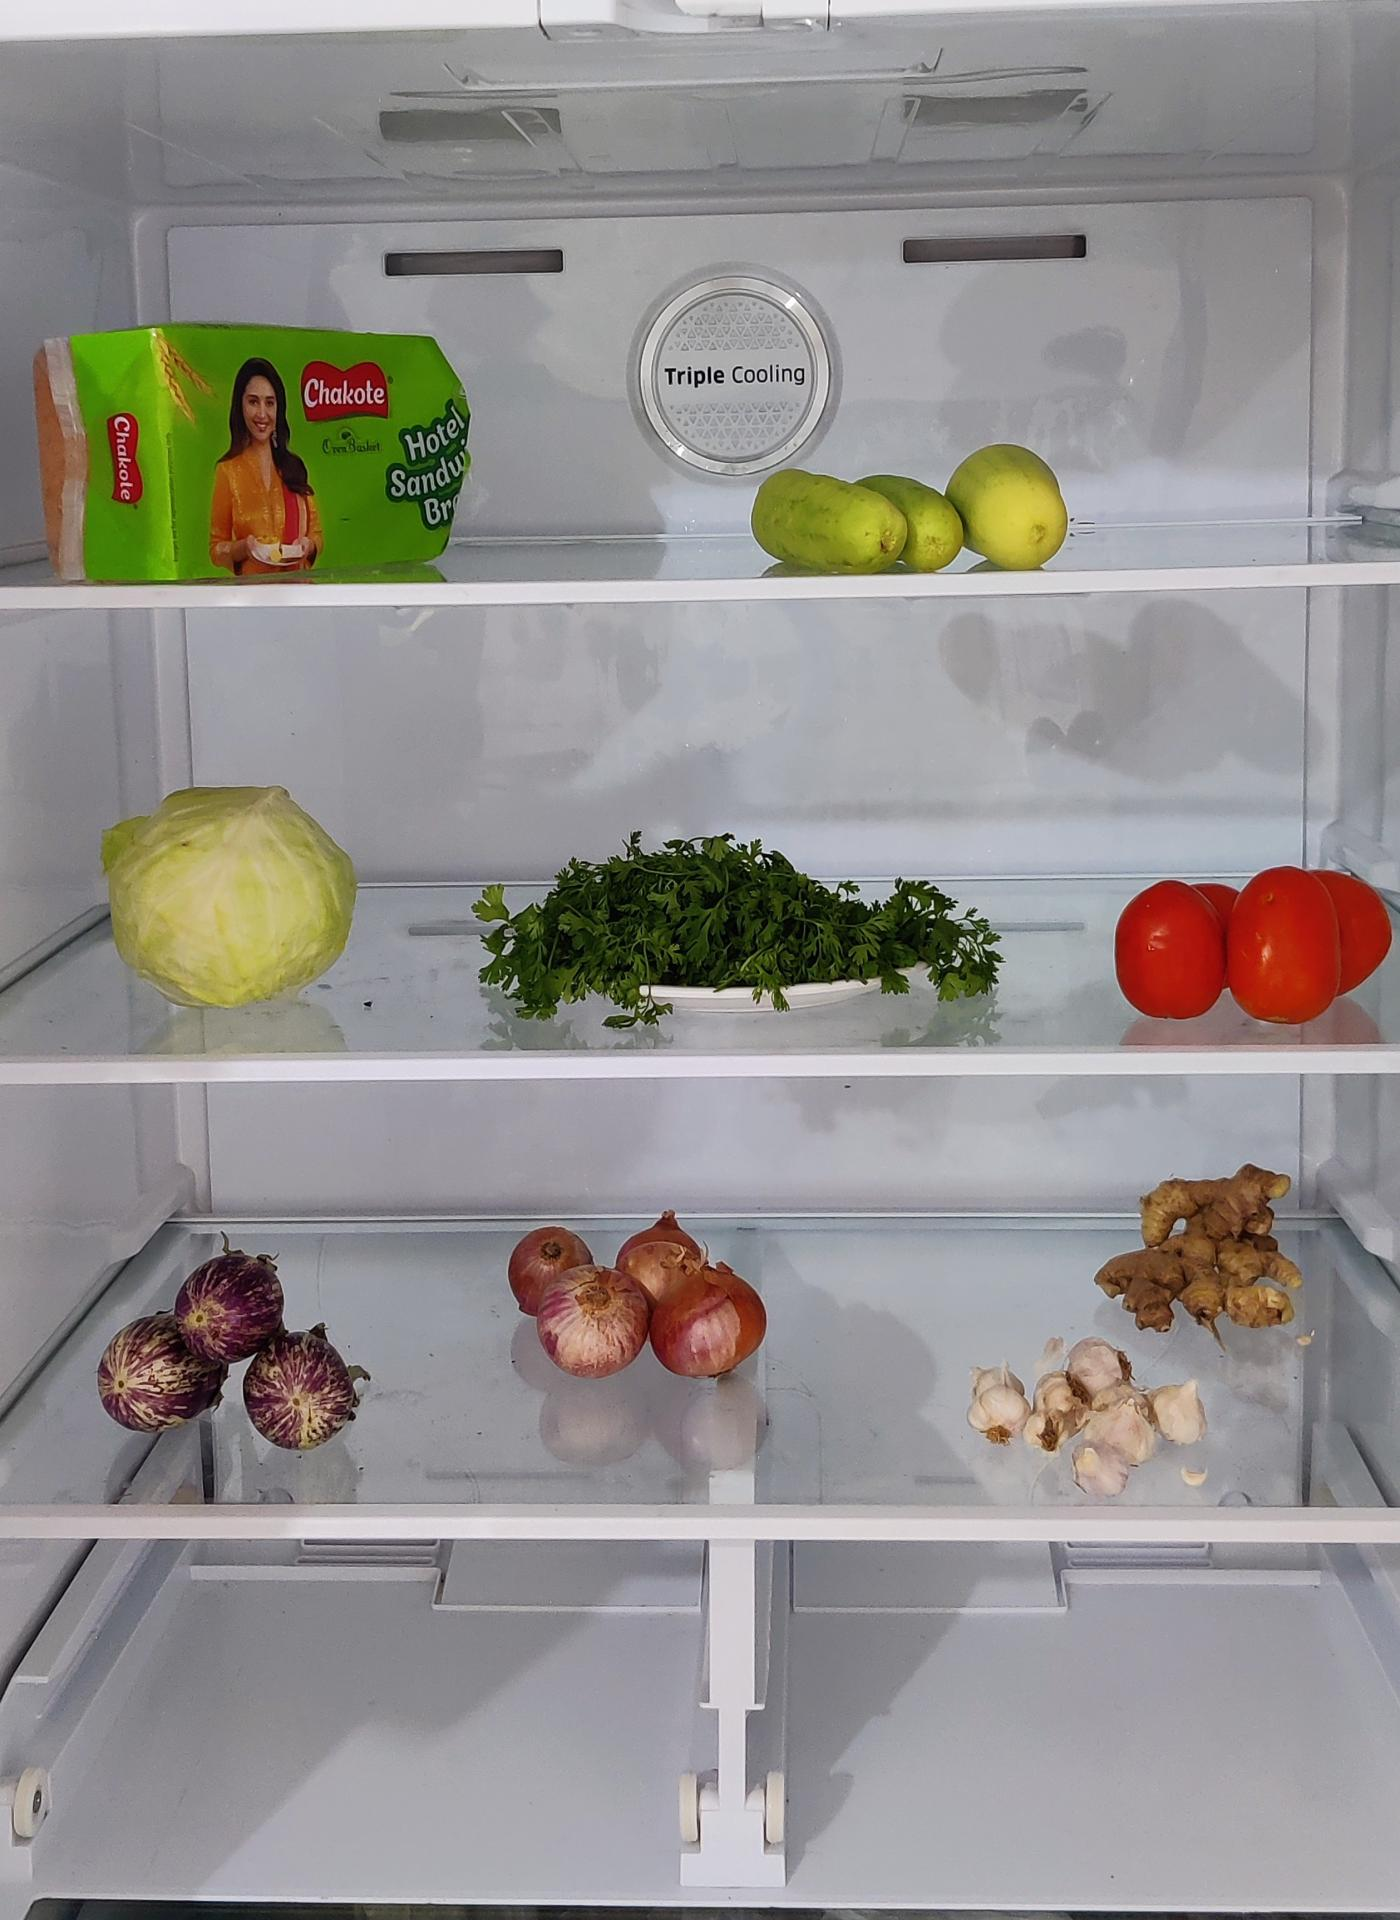bread: (22, 310, 477, 580)
brinjal: (103, 1264, 361, 1443)
cabbage: (103, 784, 362, 1008)
coriander: (477, 833, 996, 997)
cucumber: (750, 434, 1071, 571)
garlic: (968, 1336, 1208, 1497)
ginger: (1091, 1158, 1303, 1333)
onion: (510, 1213, 771, 1380)
tomato: (1117, 857, 1400, 1017)
